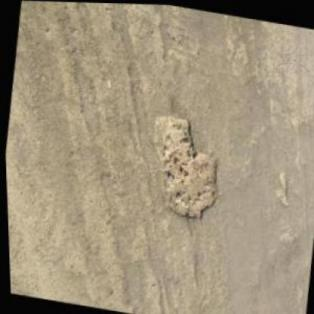Hueco: (140, 109, 231, 224), (272, 169, 292, 208)
